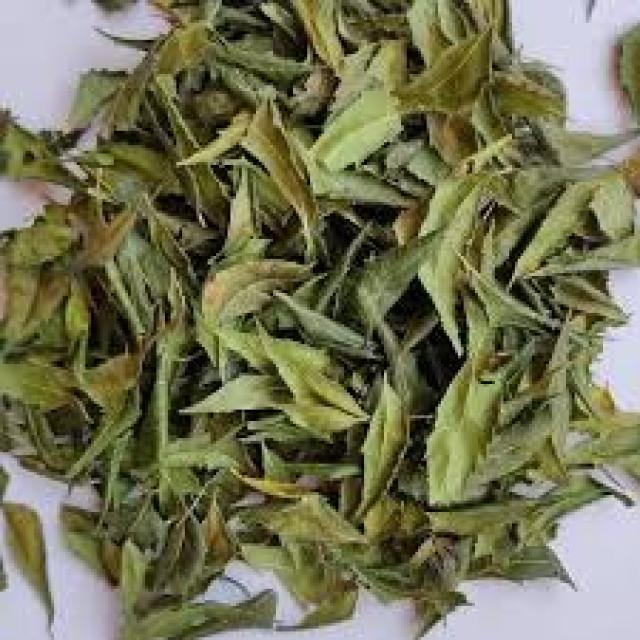Neem-Tree: (124, 114, 502, 554)
